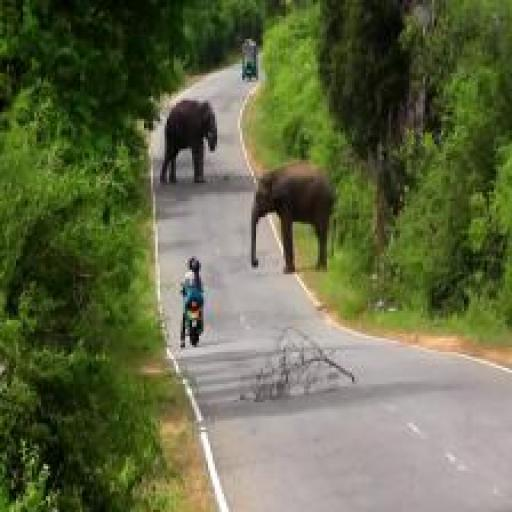Elephant: (247, 142, 356, 308), (151, 94, 235, 203)
